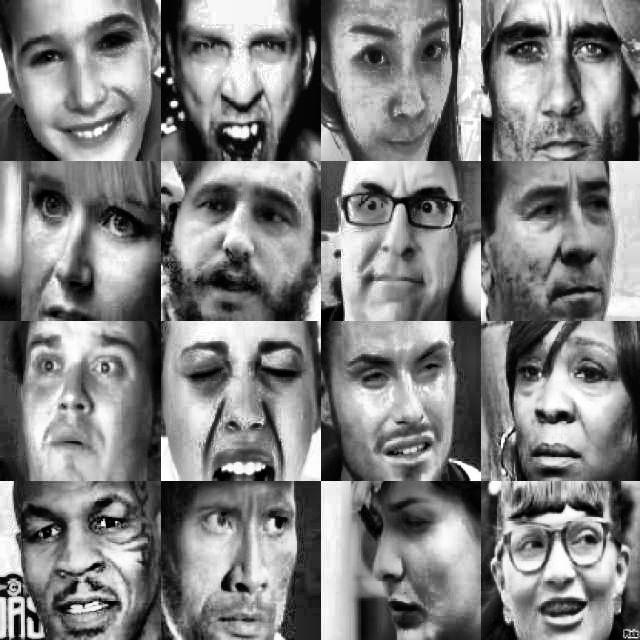angry: (163, 328, 317, 480), (6, 484, 152, 640), (166, 6, 315, 158), (172, 484, 307, 640), (502, 180, 630, 306)
fear: (162, 168, 310, 308), (16, 326, 142, 475)
happy: (328, 2, 470, 160), (10, 5, 153, 159), (496, 484, 628, 640), (337, 178, 465, 312)
neutral: (488, 9, 636, 158), (20, 161, 152, 313)
sad: (495, 325, 639, 479), (326, 331, 468, 474), (361, 483, 477, 640)
